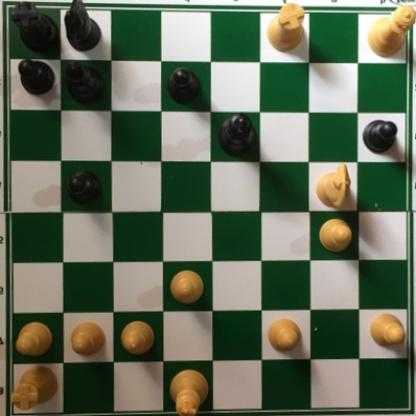black-bishop: (67, 59, 110, 102)
black-king: (216, 110, 259, 156)
black-knight: (62, 1, 101, 55)
black-pawn: (16, 54, 56, 94), (167, 66, 205, 105), (362, 117, 400, 153), (68, 169, 104, 205)
black-rook: (12, 1, 62, 54)
white-king: (169, 366, 212, 416)
white-knight: (315, 160, 355, 209)
white-pawn: (368, 308, 407, 348), (68, 320, 108, 358), (121, 320, 160, 358), (169, 264, 206, 303), (17, 322, 55, 358), (319, 217, 354, 255), (267, 318, 302, 353)
white-queen: (367, 1, 415, 57)
white-rook: (10, 362, 63, 411), (268, 1, 311, 54)
